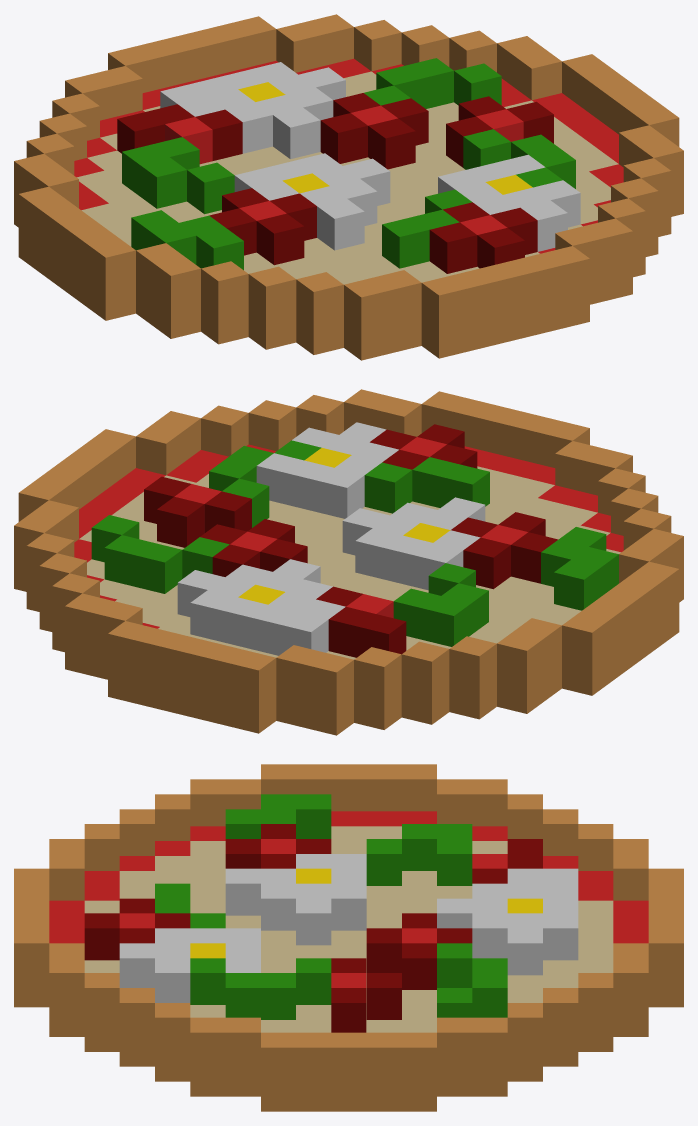
Rendered from lv30 pizza.fbx.
3 views of the same model, one above another, from view 1: azimuth 30°, elevation 25°; view 2: azimuth 150°, elevation 25°; view 3: azimuth 270°, elevation 25° (orthographic).
Visible parts, largest first — view 1: pCube1818, pCube1897, pCube1934, pCube1822, pCube1820, pCube1845, pCube1873, pCube1846, pCube1847, pCube1858, pCube1861, pCube1912 (+140 smaller); view 2: pCube1834, pCube1827, pCube1869, pCube1835, pCube1836, pCube1831, pCube1838, pCube1854, pCube1833, pCube1867, pCube1852, pCube1905 (+143 smaller); view 3: pCube1836, pCube1841, pCube1845, pCube1850, pCube1851, pCube1859, pCube1917, pCube1824, pCube1839, pCube1848, pCube1854, pCube1855 (+166 smaller).
Boxes of the visible parts, <box> form: pCube1818: <box>248,266,296,318</box>; pCube1897: <box>256,213,304,265</box>; pCube1934: <box>429,222,477,273</box>; pCube1822: <box>421,275,469,326</box>; pCube1820: <box>201,261,248,312</box>; pCube1845: <box>153,256,200,307</box>; pCube1873: <box>139,157,186,208</box>; pCube1846: <box>88,237,135,289</box>; pCube1847: <box>344,277,391,328</box>; pCube1858: <box>514,48,561,100</box>; pCube1861: <box>354,20,401,71</box>; pCube1912: <box>317,199,364,250</box>; pCube1834: <box>401,641,449,693</box>; pCube1827: <box>228,650,276,701</box>; pCube1869: <box>134,542,182,593</box>; pCube1835: <box>449,636,496,687</box>; pCube1836: <box>497,631,544,682</box>; pCube1831: <box>306,652,353,703</box>; pCube1838: <box>562,612,609,664</box>; pCube1854: <box>136,423,183,475</box>; pCube1833: <box>354,647,401,698</box>; pCube1867: <box>364,462,412,513</box>; pCube1852: <box>248,400,296,451</box>; pCube1905: <box>317,468,364,518</box>; pCube1836: <box>472,779,507,826</box>; pCube1841: <box>331,764,366,811</box>; pCube1845: <box>190,779,225,826</box>; pCube1850: <box>190,1017,225,1064</box>; pCube1851: <box>331,1032,366,1079</box>; pCube1859: <box>472,1017,507,1064</box>; pCube1917: <box>331,883,366,930</box>; pCube1824: <box>648,928,683,975</box>; pCube1839: <box>366,764,401,811</box>; pCube1848: <box>14,928,49,975</box>; pCube1854: <box>225,1017,260,1064</box>; pCube1855: <box>296,1032,331,1079</box>.
Size of the model in its own units: 19 by 2 by 19.
